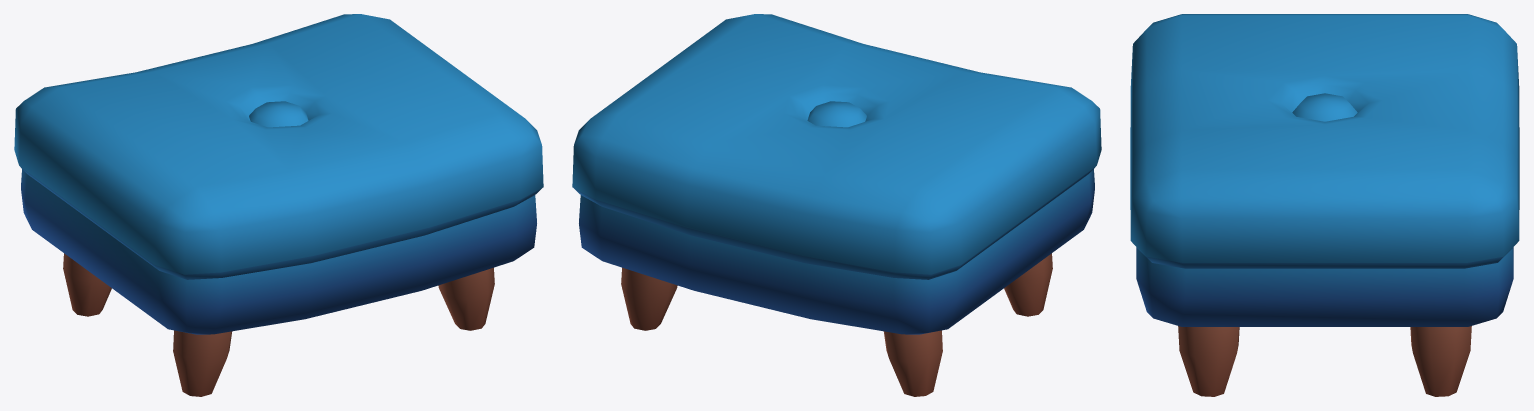
The model's file is footstool_blue.obj.
3 views of the same model, side by side, from view 1: azimuth 30°, elevation 25°; view 2: azimuth 150°, elevation 25°; view 3: azimuth 270°, elevation 25° (orthographic). The views are drawn at different scales.
Parts seen in each view (by area): view 1: footstool_blue; view 2: footstool_blue; view 3: footstool_blue.
Part boxes in pixels (x1,y1,x2,y2): footstool_blue: [14, 14, 543, 396]; footstool_blue: [572, 14, 1101, 396]; footstool_blue: [1130, 14, 1519, 396].
Size of the model in its own units: 0.8249 by 0.4445 by 0.688.
1 material, 1 textured.
